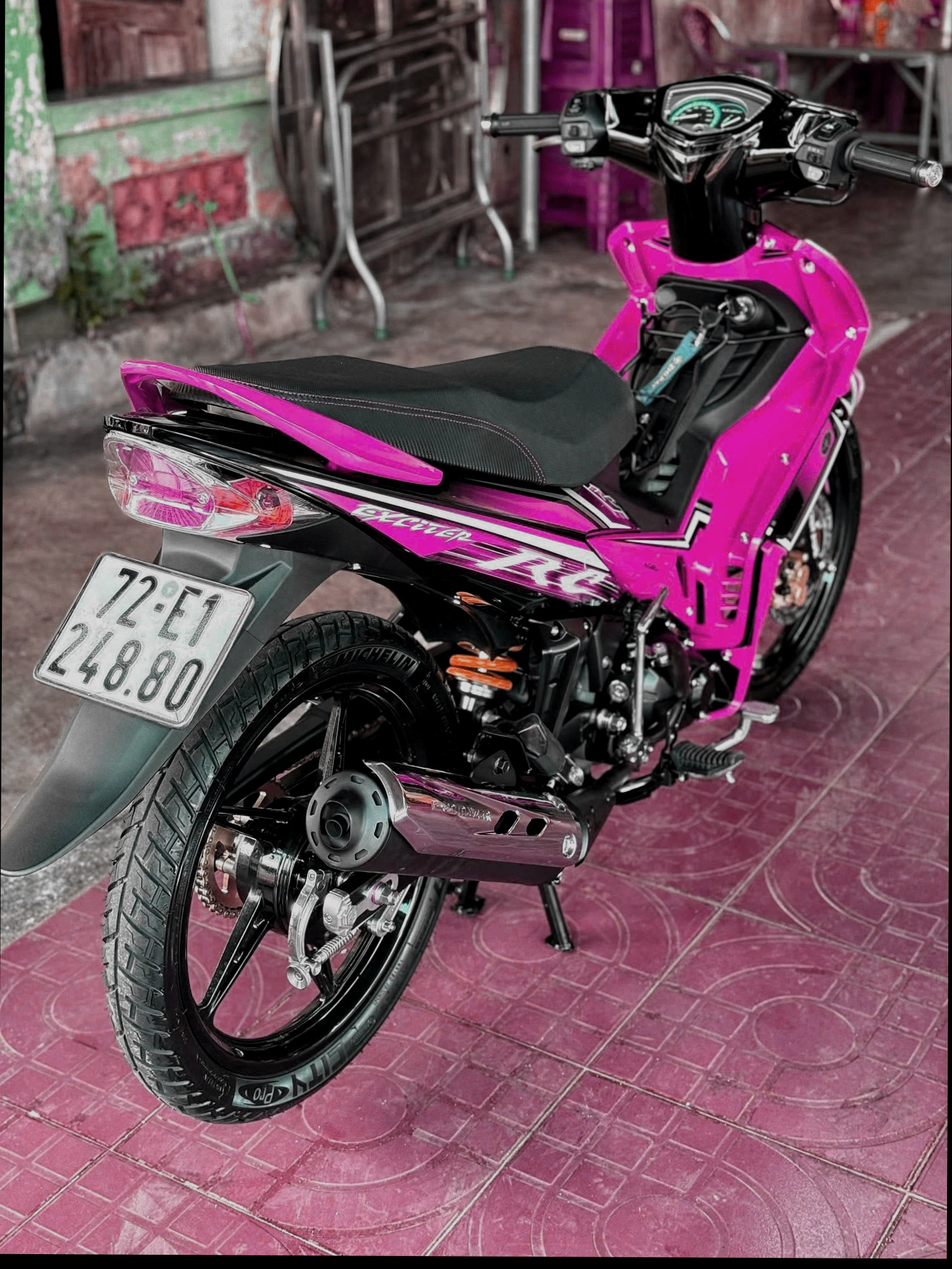Bien-so: (0, 522, 233, 724)
